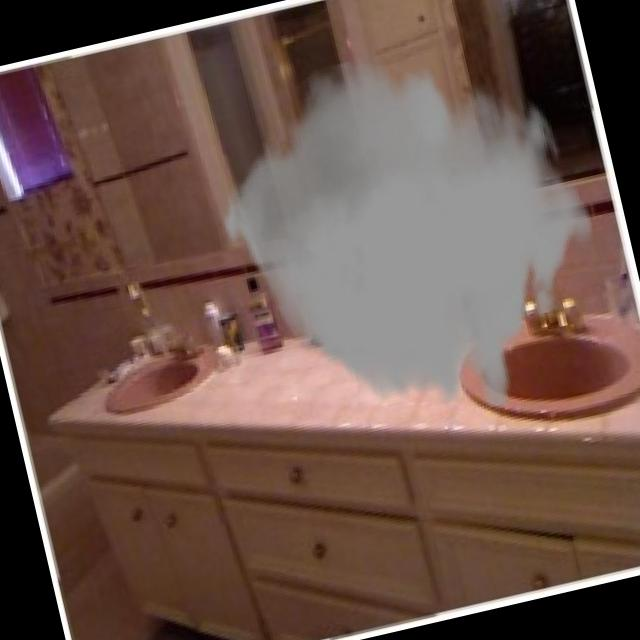Smoke: (193, 15, 629, 456)
